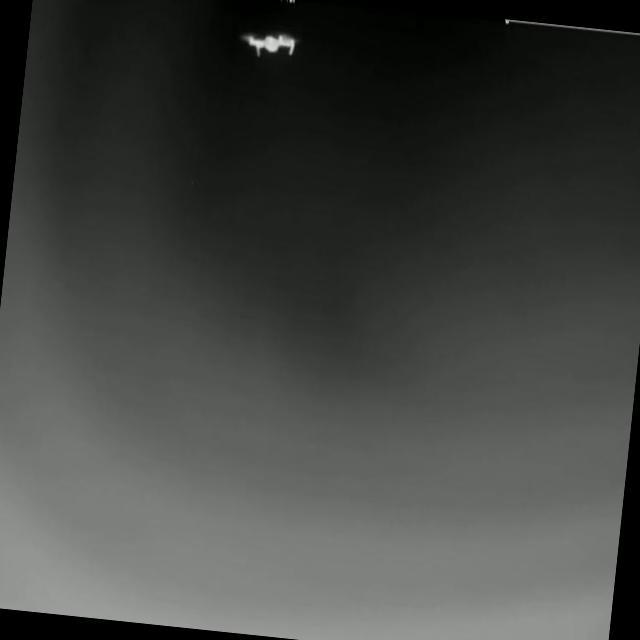DRONE: (239, 26, 303, 59)
